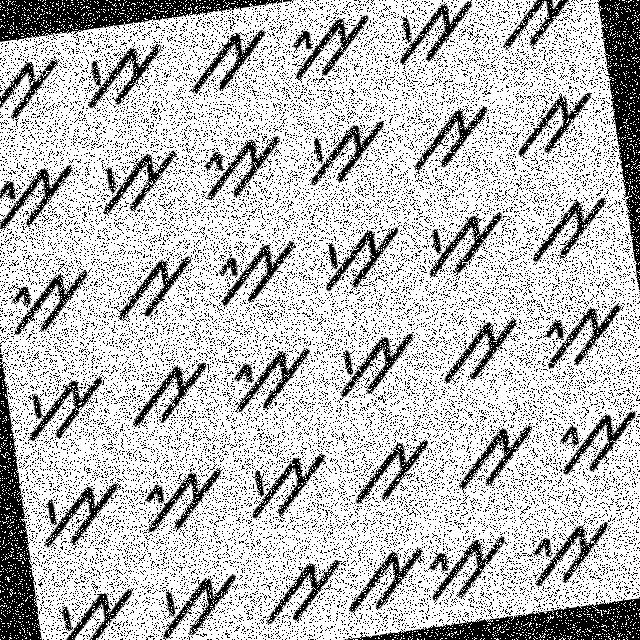wa: (98, 243, 202, 334), (174, 17, 278, 108), (438, 409, 544, 497), (430, 306, 530, 396), (344, 422, 441, 514), (505, 84, 604, 170), (342, 537, 432, 631), (118, 353, 216, 439), (520, 188, 622, 270), (403, 92, 498, 177), (255, 548, 346, 628), (494, 0, 592, 65)
we: (81, 132, 191, 224), (12, 361, 118, 456), (411, 192, 516, 284), (23, 470, 128, 560), (68, 34, 171, 118), (145, 561, 254, 639), (316, 212, 410, 301), (236, 440, 334, 525), (326, 322, 426, 404), (389, 0, 486, 78), (42, 571, 147, 639), (302, 115, 398, 188)
wi: (275, 4, 379, 94), (0, 252, 99, 346), (544, 390, 639, 485), (534, 293, 634, 381), (204, 226, 306, 312), (132, 456, 231, 544), (190, 122, 292, 206), (520, 506, 621, 590), (226, 337, 320, 422), (424, 518, 515, 604), (0, 153, 84, 236), (0, 48, 70, 135)
